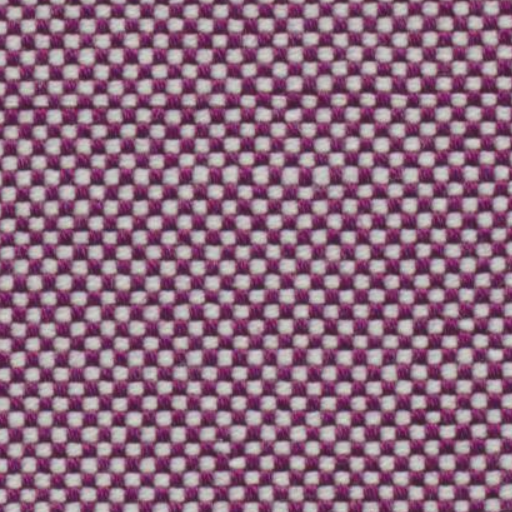TuoSha: (12, 72, 484, 124)
